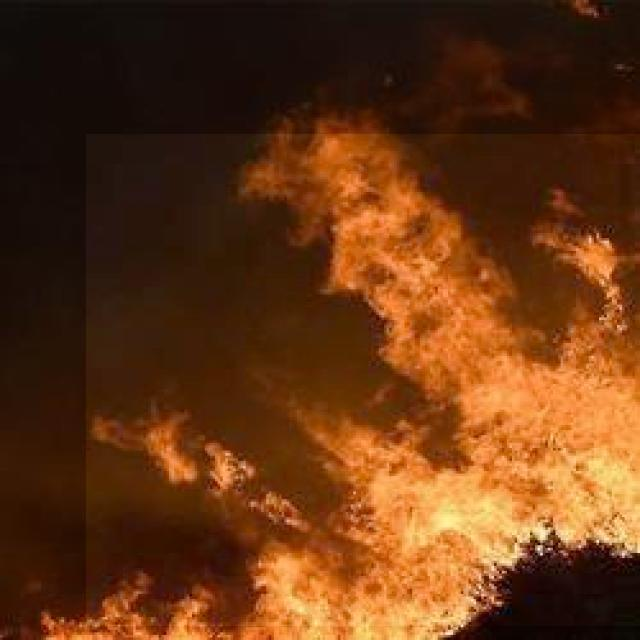Fire: (86, 134, 640, 626)
